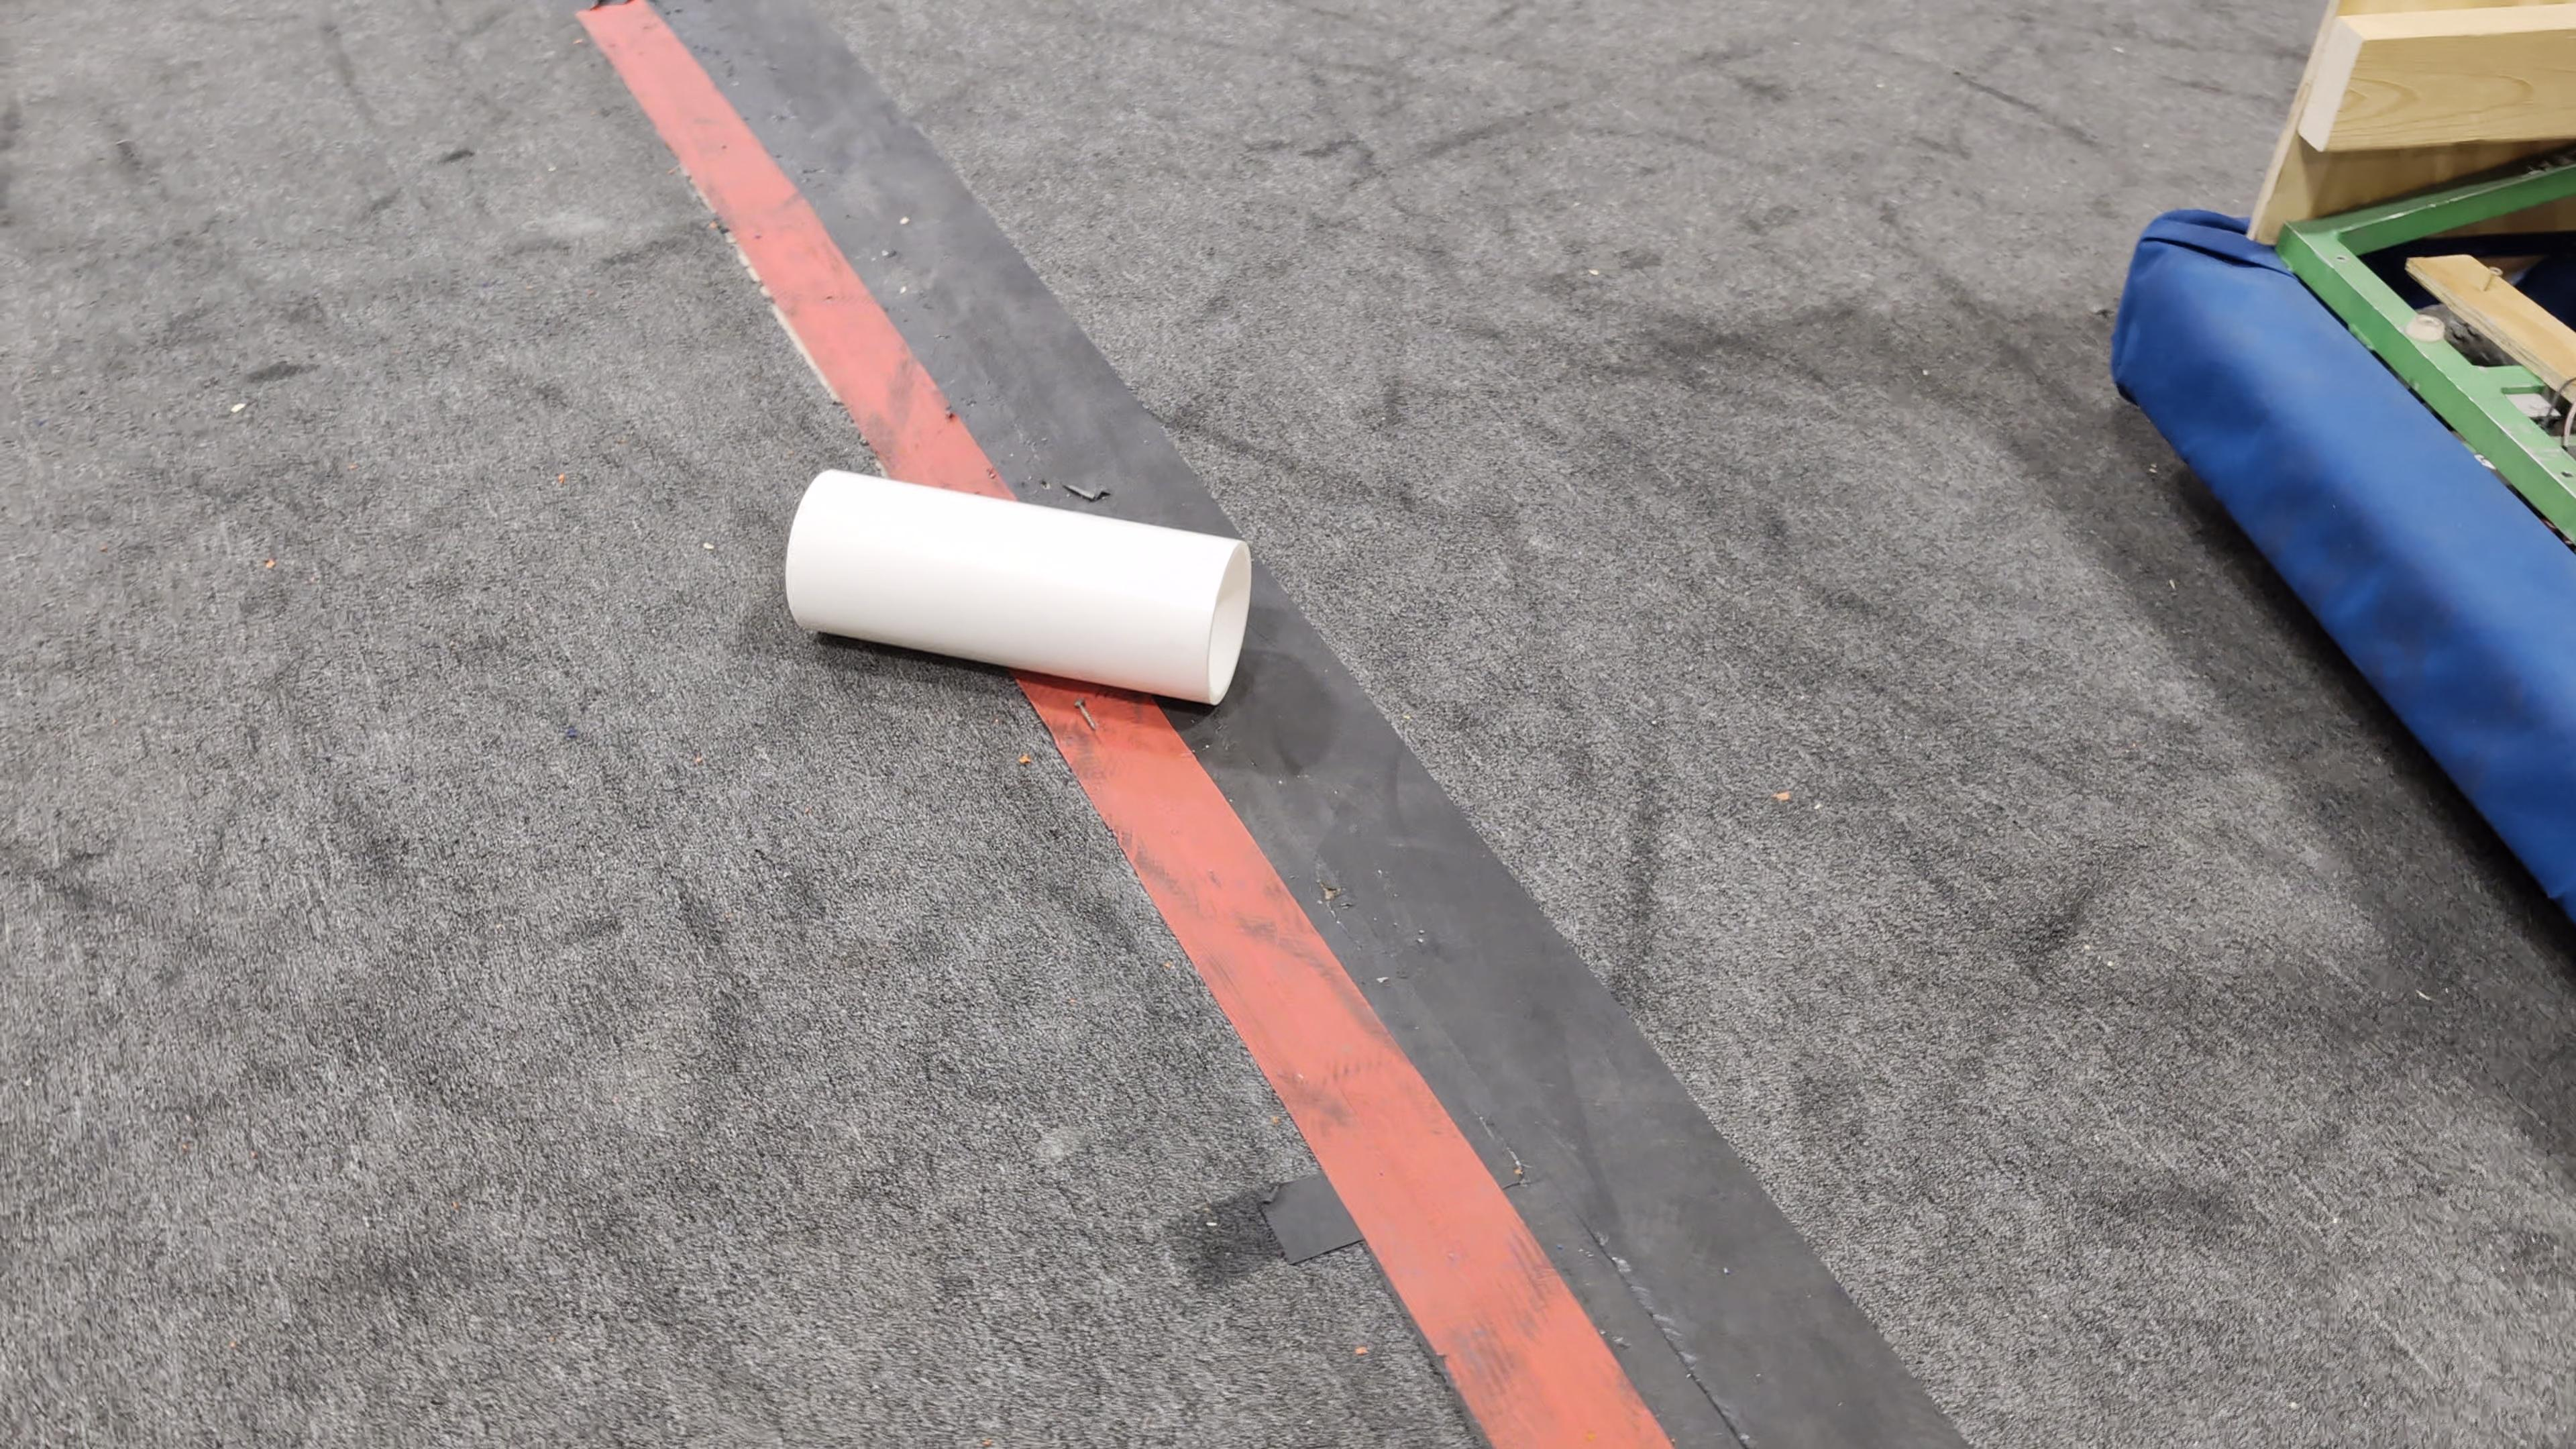coral: (782, 462, 1256, 706)
